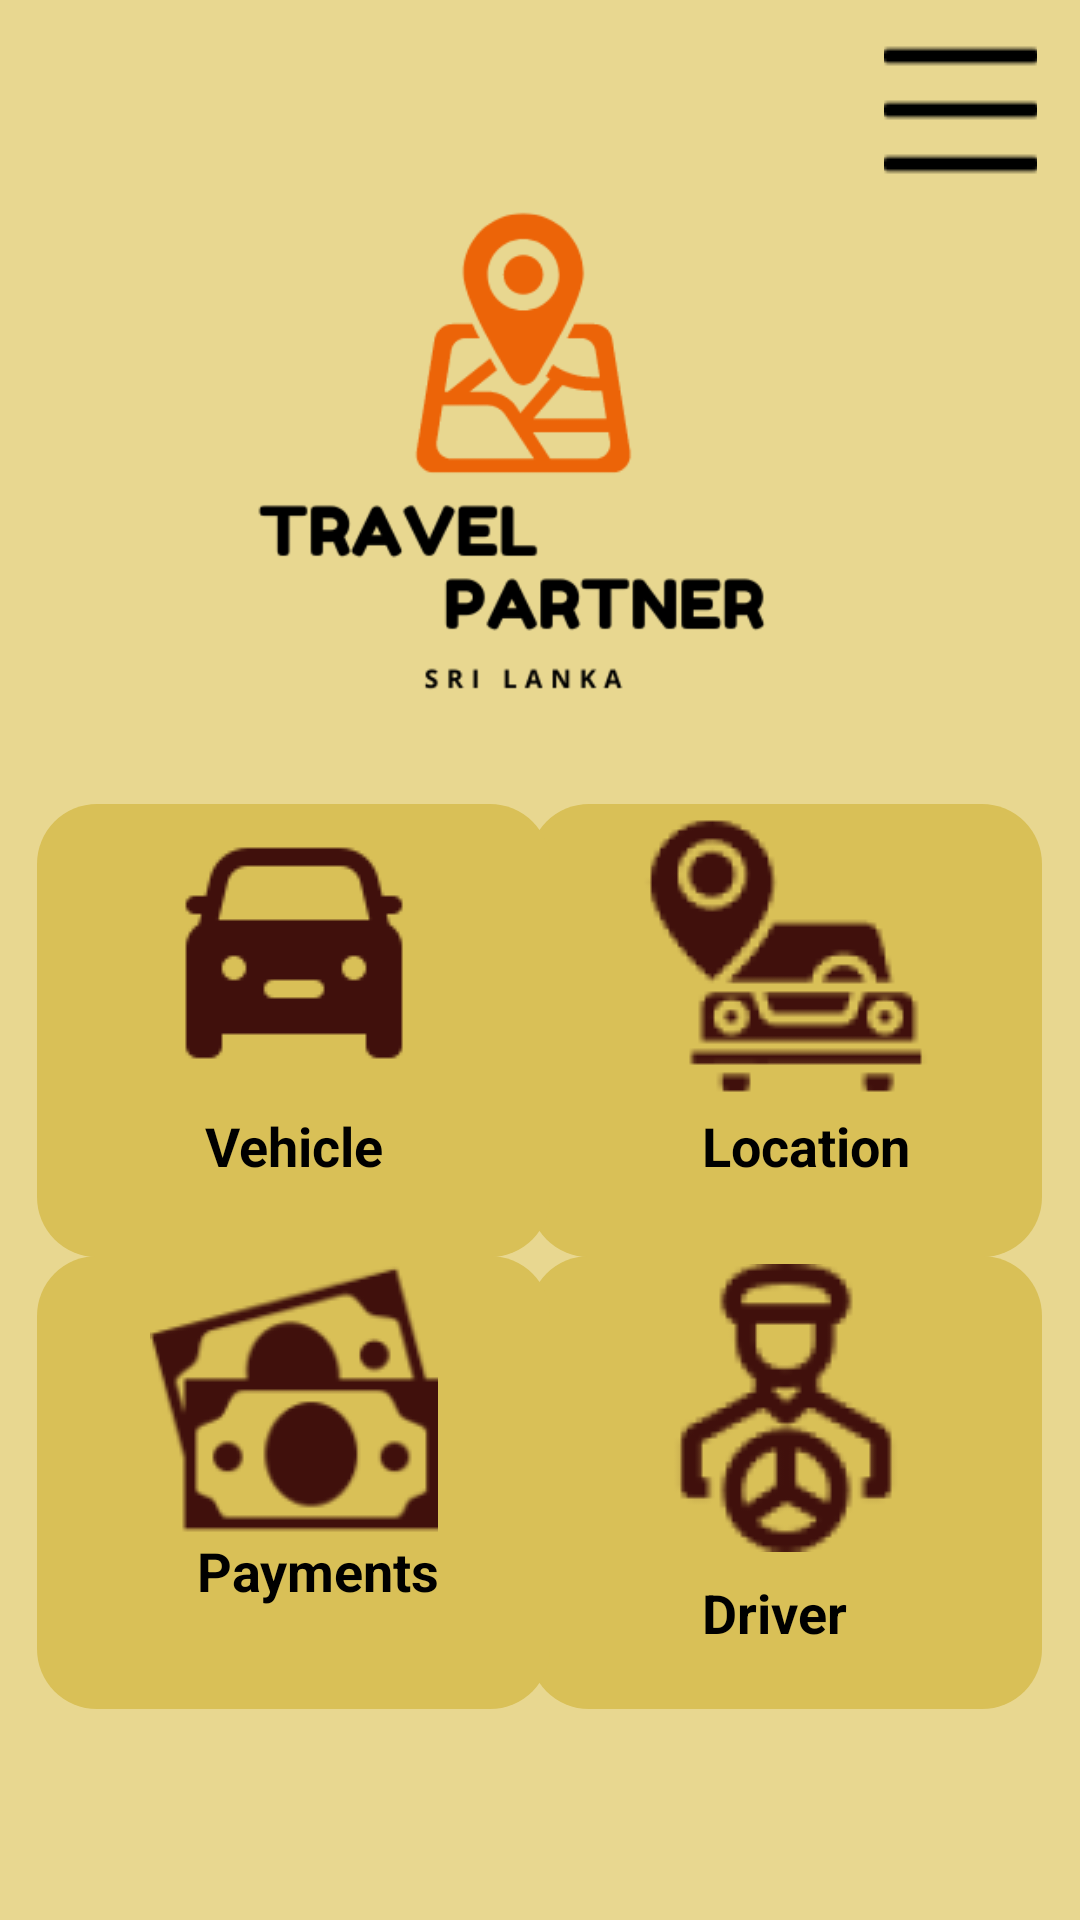

Locate icon controls on the screen. Image size 1080*1920, boxes as (x1, y1, x2, y2).
menue: (884, 46, 1037, 174)
